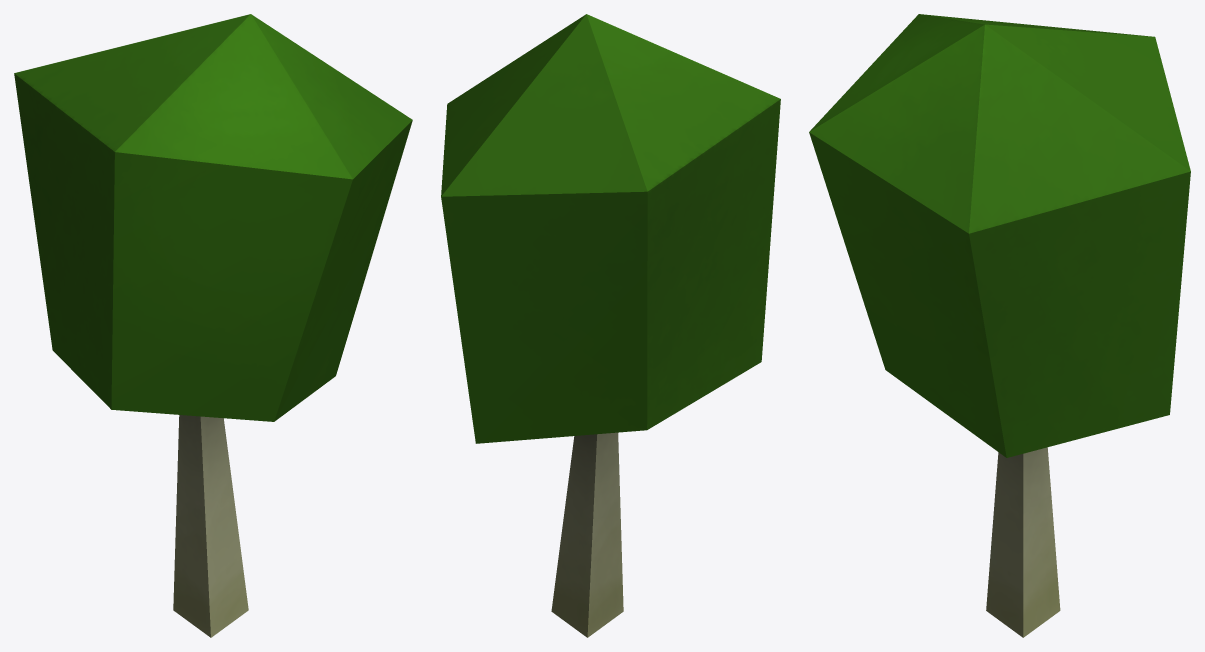
The model's file is Leave_tree_C1_02.FBX.
The picture shows the model from 3 angles, left to right: view 1: azimuth 30°, elevation 25°; view 2: azimuth 150°, elevation 25°; view 3: azimuth 270°, elevation 25°; orthographic projection. The views are drawn at different scales.
Visible parts, largest first — view 1: Leave_tree_C1_02; view 2: Leave_tree_C1_02; view 3: Leave_tree_C1_02.
Part boxes in pixels (left/top/right/bottom): Leave_tree_C1_02: left=14, top=14, right=412, bottom=637; Leave_tree_C1_02: left=441, top=14, right=780, bottom=637; Leave_tree_C1_02: left=809, top=14, right=1190, bottom=637.
Size of the model in its own units: 25.31 by 26.3 by 45.97.
